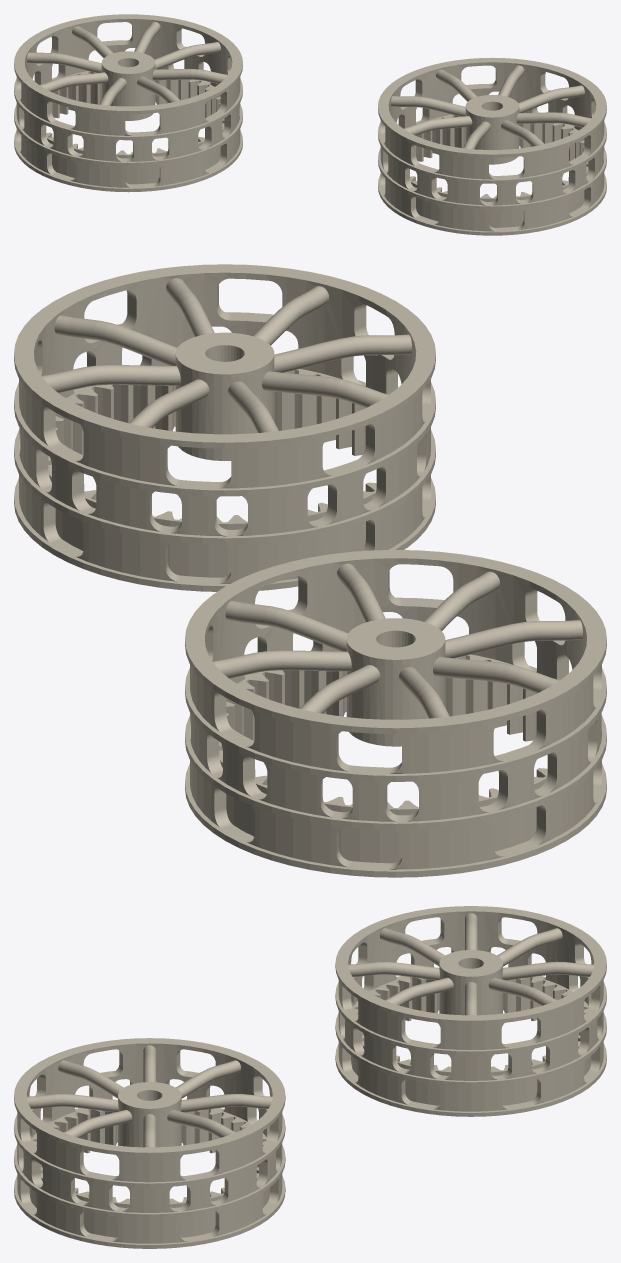
The model's file is lfr-wheels.glb.
3 renders of one model, top to bottom at view 1: azimuth 30°, elevation 25°; view 2: azimuth 150°, elevation 25°; view 3: azimuth 270°, elevation 25°, orthographic. The views are drawn at different scales.
Visible parts, largest first — view 1: 1, 2; view 2: 2, 1; view 3: 1, 2.
Part boxes in pixels (<box>): 1: <box>378,57,606,235</box>; 2: <box>14,14,242,192</box>; 2: <box>185,550,606,877</box>; 1: <box>14,264,435,591</box>; 1: <box>14,1038,285,1248</box>; 2: <box>335,906,606,1116</box>.
Size of the model in its own units: 0.1377 by 0.0253 by 0.1398.
